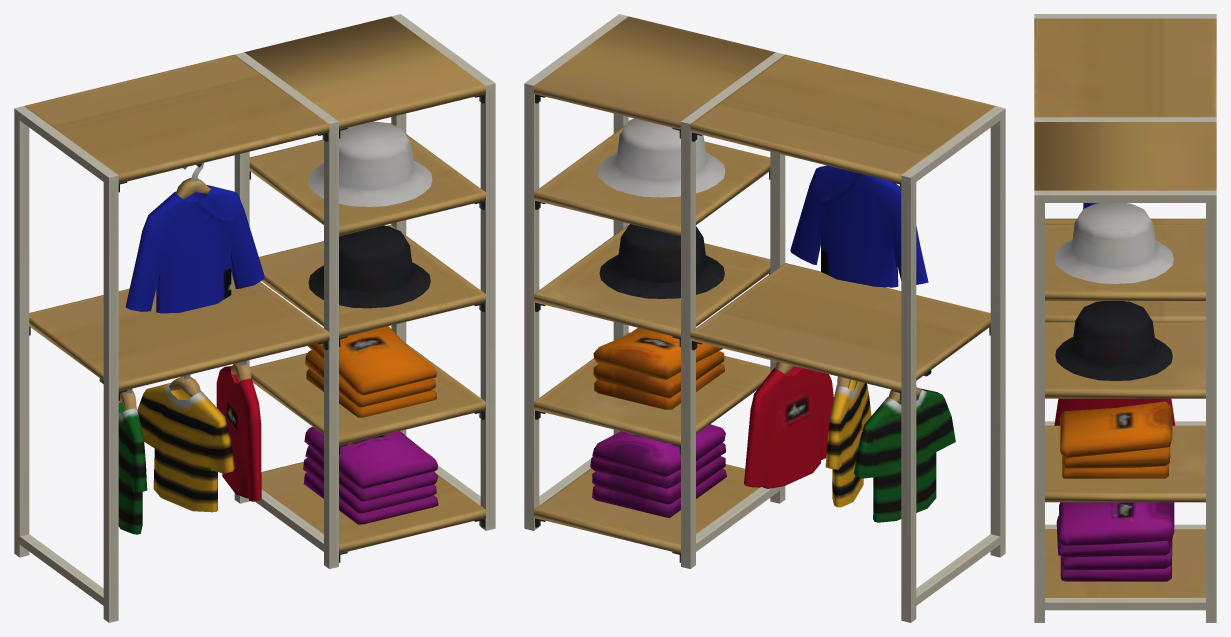
The picture shows the model from 3 angles, left to right: view 1: azimuth 30°, elevation 25°; view 2: azimuth 150°, elevation 25°; view 3: azimuth 270°, elevation 25°; orthographic projection. The views are drawn at different scales.
Bounding box in the file's own units: 20 × 22 × 8.5.
Materials: 2 (2 with a texture image).
